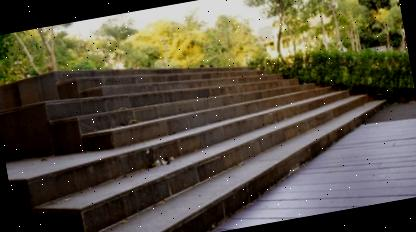stair: (0, 18, 404, 232)
